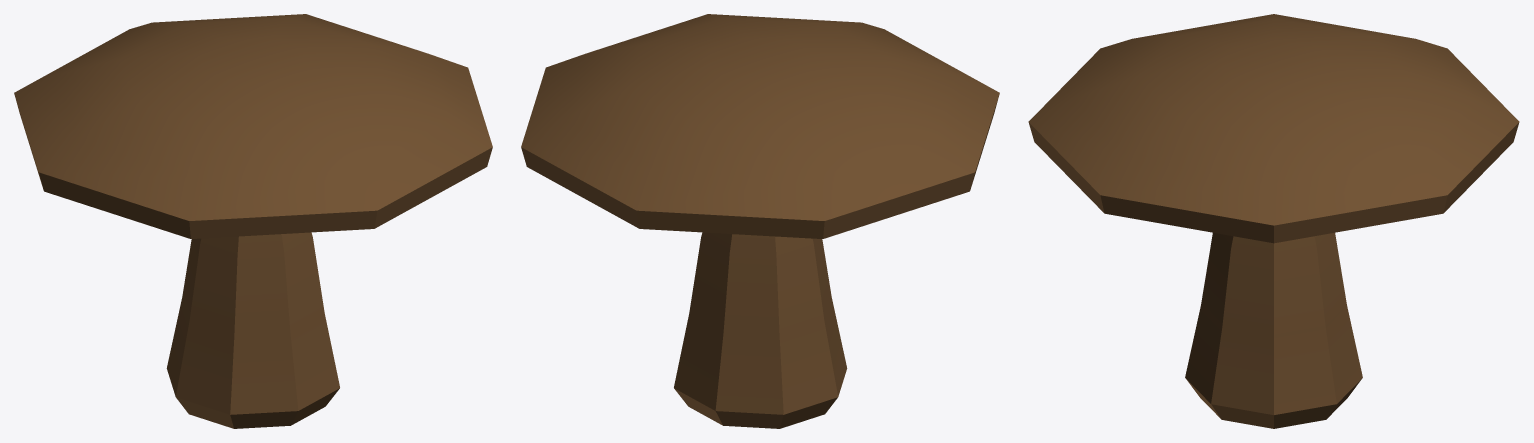
Rendered from Pilz.fbx.
3 renders of one model, left to right at view 1: azimuth 30°, elevation 25°; view 2: azimuth 150°, elevation 25°; view 3: azimuth 270°, elevation 25°, orthographic.
Visible parts, largest first — view 1: Pilz; view 2: Pilz; view 3: Pilz.
Boxes of the visible parts, <box> form: Pilz: <box>14,14,492,428</box>; Pilz: <box>521,14,999,428</box>; Pilz: <box>1028,14,1519,428</box>.
Size of the model in its own units: 72.51 by 54.48 by 72.51.
